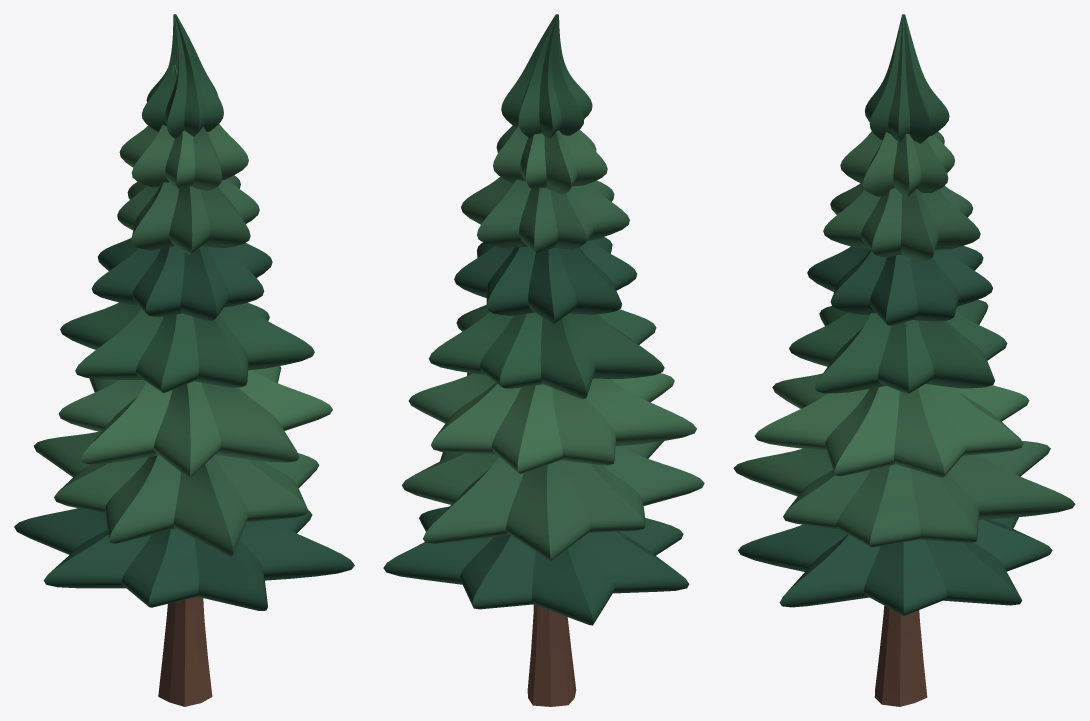
Rendered from layered_pine.glb.
3 views of the same model, side by side, from view 1: azimuth 30°, elevation 25°; view 2: azimuth 150°, elevation 25°; view 3: azimuth 270°, elevation 25° (orthographic).
Visible parts, largest first — view 1: Needle whorl 1, Needle whorl 3, Needle whorl 2, Needle whorl 4, Needle whorl 5, Needle whorl 6, Needle whorl 7, Needle whorl 8, Pine trunk; view 2: Needle whorl 2, Needle whorl 3, Needle whorl 1, Needle whorl 4, Needle whorl 5, Needle whorl 6, Needle whorl 8, Needle whorl 7, Pine trunk; view 3: Needle whorl 2, Needle whorl 3, Needle whorl 1, Needle whorl 4, Needle whorl 5, Needle whorl 6, Needle whorl 8, Needle whorl 7, Pine trunk.
Part boxes in pixels (left/top/right/bottom): Needle whorl 1: left=14, top=508, right=354, bottom=610; Needle whorl 3: left=58, top=366, right=332, bottom=478; Needle whorl 2: left=34, top=431, right=319, bottom=556; Needle whorl 4: left=60, top=302, right=314, bottom=392; Needle whorl 5: left=91, top=238, right=272, bottom=320; Needle whorl 6: left=117, top=175, right=259, bottom=254; Needle whorl 7: left=119, top=65, right=248, bottom=190; Needle whorl 8: left=142, top=14, right=223, bottom=138; Pine trunk: left=158, top=52, right=212, bottom=706; Needle whorl 2: left=402, top=441, right=704, bottom=561; Needle whorl 3: left=408, top=372, right=696, bottom=473; Needle whorl 1: left=383, top=506, right=689, bottom=625; Needle whorl 4: left=429, top=304, right=664, bottom=399; Needle whorl 5: left=454, top=237, right=637, bottom=323; Needle whorl 6: left=461, top=177, right=629, bottom=254; Needle whorl 8: left=501, top=14, right=592, bottom=138; Needle whorl 7: left=493, top=125, right=607, bottom=194; Pine trunk: left=527, top=604, right=576, bottom=706; Needle whorl 2: left=733, top=441, right=1075, bottom=547; Needle whorl 3: left=754, top=373, right=1029, bottom=477; Needle whorl 1: left=738, top=517, right=1052, bottom=615; Needle whorl 4: left=789, top=299, right=1007, bottom=393; Needle whorl 5: left=807, top=246, right=992, bottom=325; Needle whorl 6: left=823, top=183, right=980, bottom=260; Needle whorl 8: left=865, top=14, right=949, bottom=143; Needle whorl 7: left=840, top=131, right=954, bottom=197; Pine trunk: left=874, top=606, right=927, bottom=706.
Bounding box in the file's own units: 3.39 × 8.21 × 3.76.
